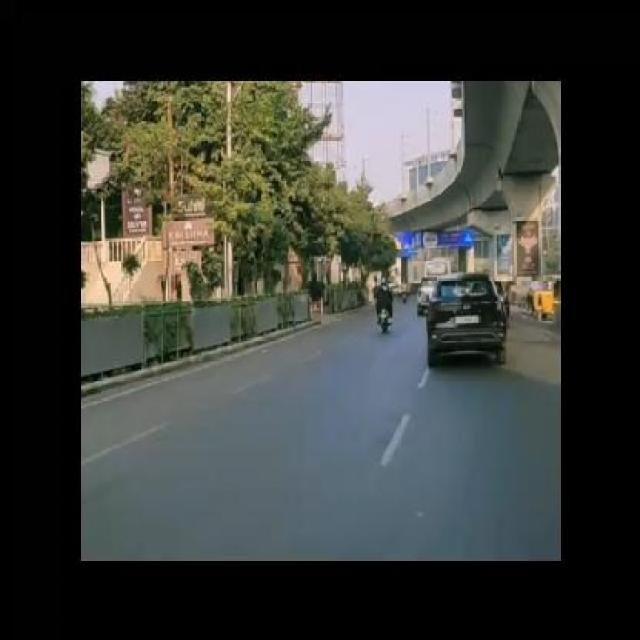car: (420, 274, 508, 368)
motorbike: (374, 278, 397, 331)
